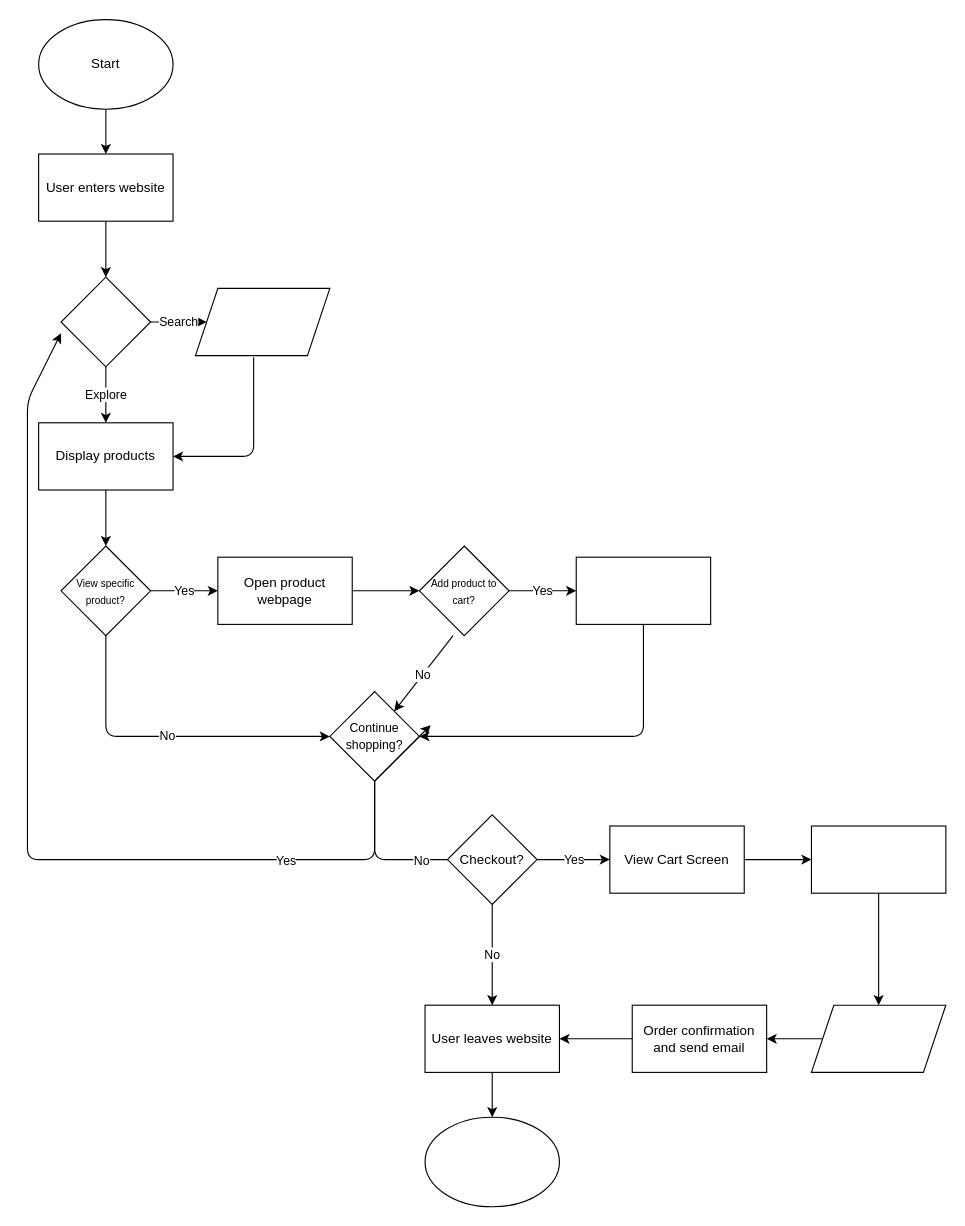
The diagram is 965 pixels wide and 1226 high, and some of its shapes have lost their labels. Each missing label, with the centre of its shape:
Added to cart confirmation: (x=643, y=590)
End: (x=491, y=1161)
Input for payment information: (x=878, y=1038)
Input to search: (x=262, y=321)
Search for a product or explore: (x=105, y=321)
View Payment Screen: (x=878, y=859)
